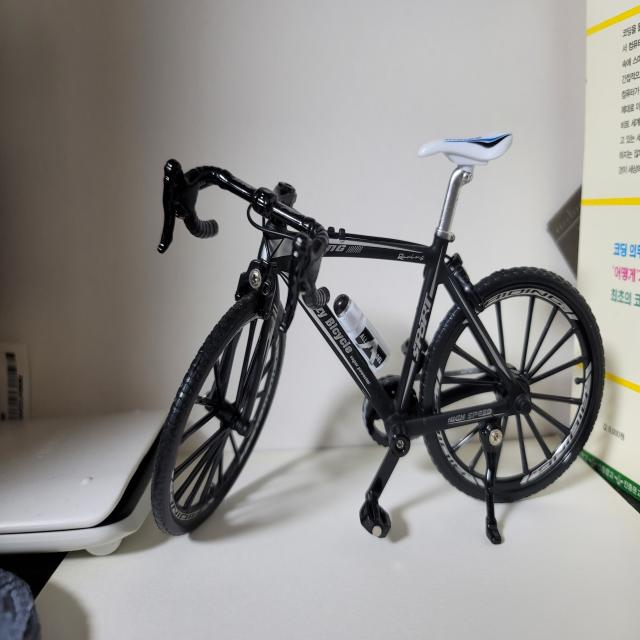bicycle: (150, 131, 605, 544)
